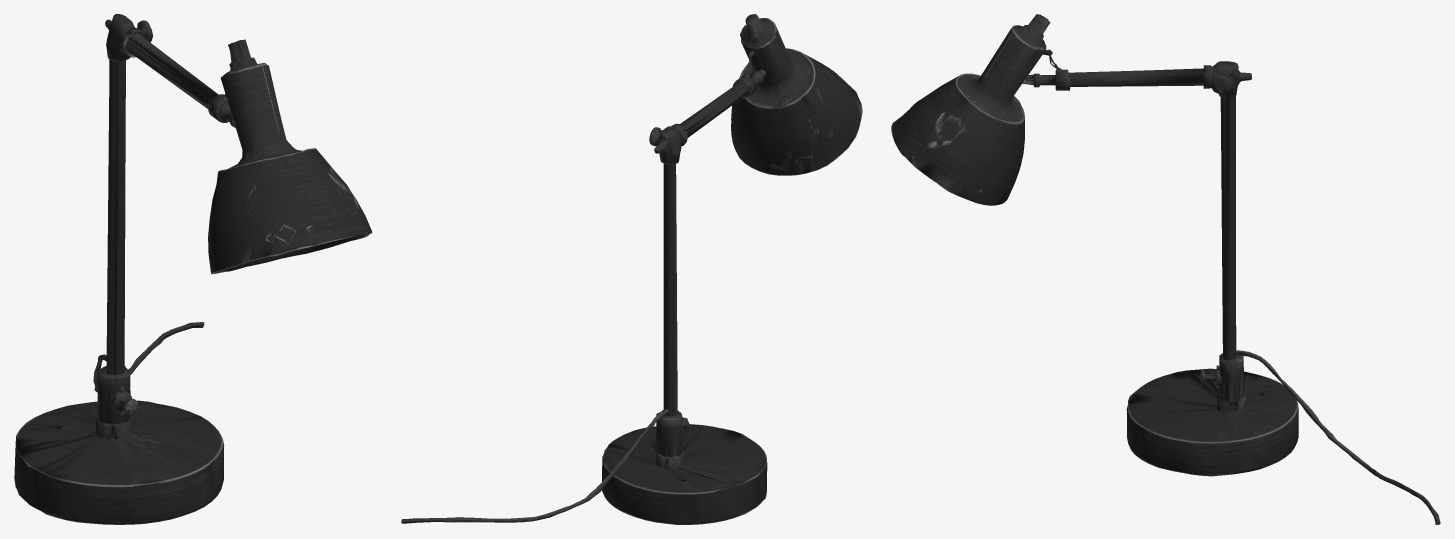
File: desk-lamp.glb
The picture shows the model from 3 angles, left to right: view 1: azimuth 30°, elevation 25°; view 2: azimuth 150°, elevation 25°; view 3: azimuth 270°, elevation 25°; orthographic projection. The views are drawn at different scales.
Size of the model in its own units: 0.52 by 0.8243 by 0.9512.
1 material, 1 textured.
